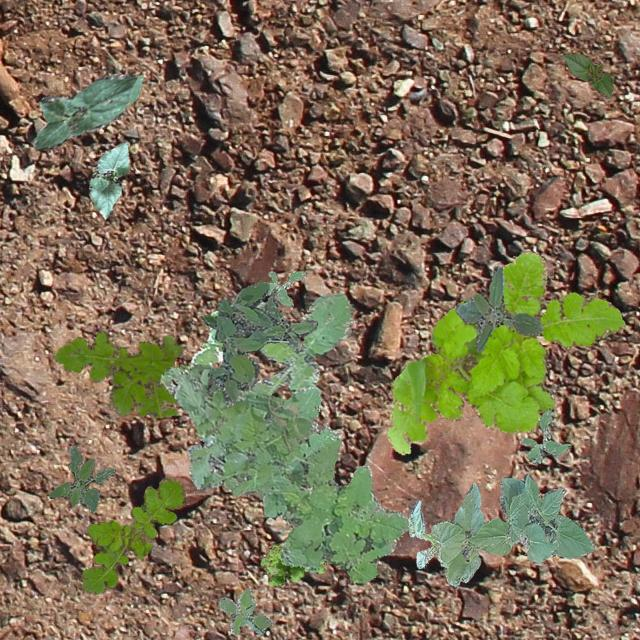crop: (408, 472, 594, 584), (32, 72, 142, 150), (88, 140, 128, 218), (562, 52, 612, 98)
weed: (160, 362, 408, 582), (384, 251, 624, 454), (190, 292, 352, 393), (202, 280, 316, 404), (80, 476, 184, 594), (52, 329, 180, 416), (454, 264, 542, 352), (48, 442, 114, 512), (260, 544, 328, 584), (520, 408, 568, 462), (218, 588, 272, 634), (264, 270, 306, 306)
